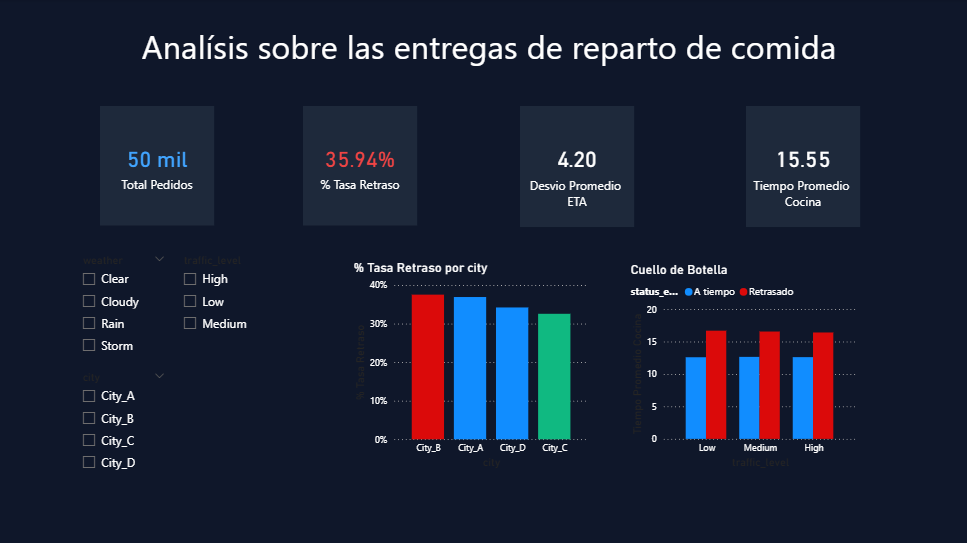

The dashboard page shown, as its layout file describes it:
{"tool":"powerbi","page":{"name":"Página 1","canvas":[1280,720],"ordinal":0},"visuals":[{"type":"card","fields":{"Values":["Tabla.Total Pedidos"]},"box":[135.7,140,150,157.1],"z":0},{"type":"card","fields":{"Values":["Tabla.% Tasa Retraso"]},"box":[401.4,140,150,157.1],"z":1},{"type":"card","fields":{"Values":["Tabla.Desvio Promedio ETA"]},"box":[687.1,140,150,158.6],"z":2},{"type":"card","fields":{"Values":["Tabla.Tiempo Promedio Cocina"]},"box":[984.3,140,150,158.6],"z":3},{"type":"clusteredColumnChart","fields":{"Category":["food_delivery_orders_dataset.city"],"Y":["Tabla.% Tasa Retraso"]},"box":[464.3,342.9,318.6,278.6],"z":5},{"type":"clusteredColumnChart","title":"Cuello de Botella","fields":{"Y":["Tabla.Tiempo Promedio Cocina"],"Category":["food_delivery_orders_dataset.traffic_level"],"Series":["food_delivery_orders_dataset.status_entrega"]},"box":[827.1,345.7,307.1,275.7],"z":6},{"type":"textbox","box":[185.7,27.1,962.9,150],"z":9},{"type":"slicer","fields":{"Values":["food_delivery_orders_dataset.weather"]},"box":[100,330,132.9,152.9],"z":10},{"type":"slicer","fields":{"Values":["food_delivery_orders_dataset.city"]},"box":[100,482.9,132.9,151.4],"z":11},{"type":"slicer","fields":{"Values":["food_delivery_orders_dataset.traffic_level"]},"box":[232.9,330,137.1,138.6],"z":12}]}

Visuals, with their boxes in screenshot pixels (x1, y1, x2, y2), scaled from the page's 1280x720 canvas onto the 967x543 screenshot:
card - Tabla.Total Pedidos: {"x1": 103, "y1": 106, "x2": 216, "y2": 224}
card - Tabla.% Tasa Retraso: {"x1": 303, "y1": 106, "x2": 417, "y2": 224}
card - Tabla.Desvio Promedio ETA: {"x1": 519, "y1": 106, "x2": 632, "y2": 225}
card - Tabla.Tiempo Promedio Cocina: {"x1": 744, "y1": 106, "x2": 857, "y2": 225}
clusteredColumnChart - food_delivery_orders_dataset.city x Tabla.% Tasa Retraso: {"x1": 351, "y1": 259, "x2": 591, "y2": 469}
"Cuello de Botella" clusteredColumnChart: {"x1": 625, "y1": 261, "x2": 857, "y2": 469}
textbox: {"x1": 140, "y1": 20, "x2": 868, "y2": 134}
slicer - food_delivery_orders_dataset.weather: {"x1": 76, "y1": 249, "x2": 176, "y2": 364}
slicer - food_delivery_orders_dataset.city: {"x1": 76, "y1": 364, "x2": 176, "y2": 478}
slicer - food_delivery_orders_dataset.traffic_level: {"x1": 176, "y1": 249, "x2": 280, "y2": 353}
